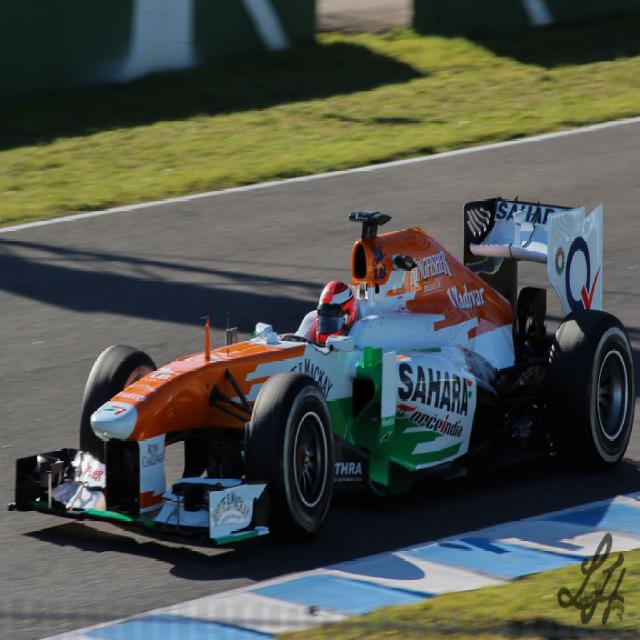car: (5, 191, 635, 552)
